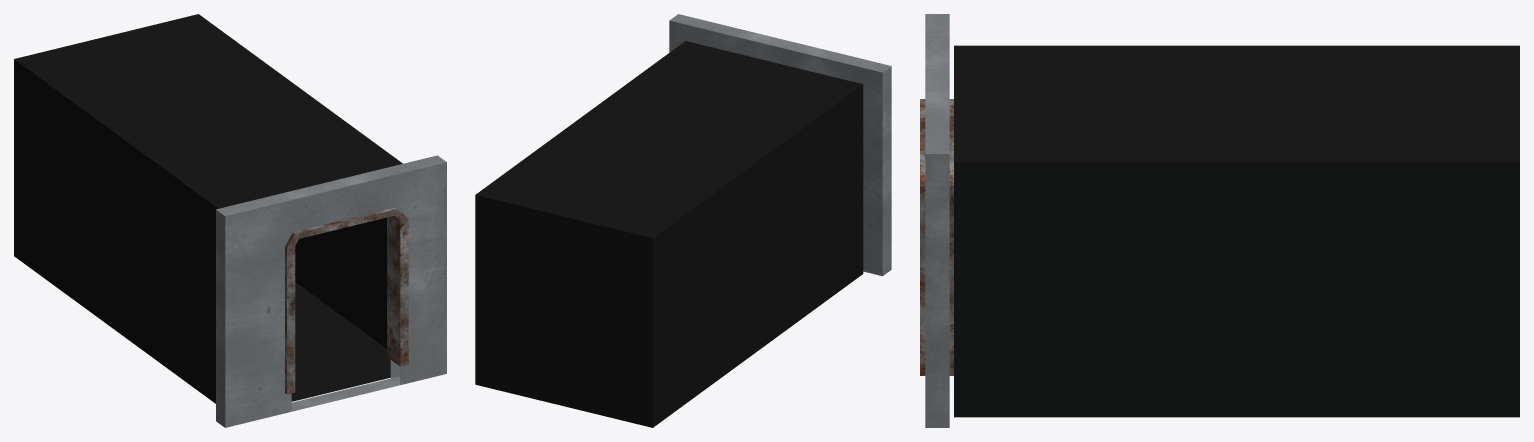
The model's file is tunnel_entrance.glb.
3 renders of one model, left to right at view 1: azimuth 30°, elevation 25°; view 2: azimuth 150°, elevation 25°; view 3: azimuth 270°, elevation 25°, orthographic. The views are drawn at different scales.
Parts seen in each view (by area): view 1: Prop.tunnel_entrance; view 2: Prop.tunnel_entrance; view 3: Prop.tunnel_entrance.
Boxes of the visible parts, box(x1,y1,x2,y2) form: Prop.tunnel_entrance: box(14, 14, 446, 427); Prop.tunnel_entrance: box(475, 14, 891, 427); Prop.tunnel_entrance: box(920, 14, 1519, 427).
Bounding box in the file's own units: 5.7 × 5.22 × 10.32.
Materials: 3 (2 with a texture image).
